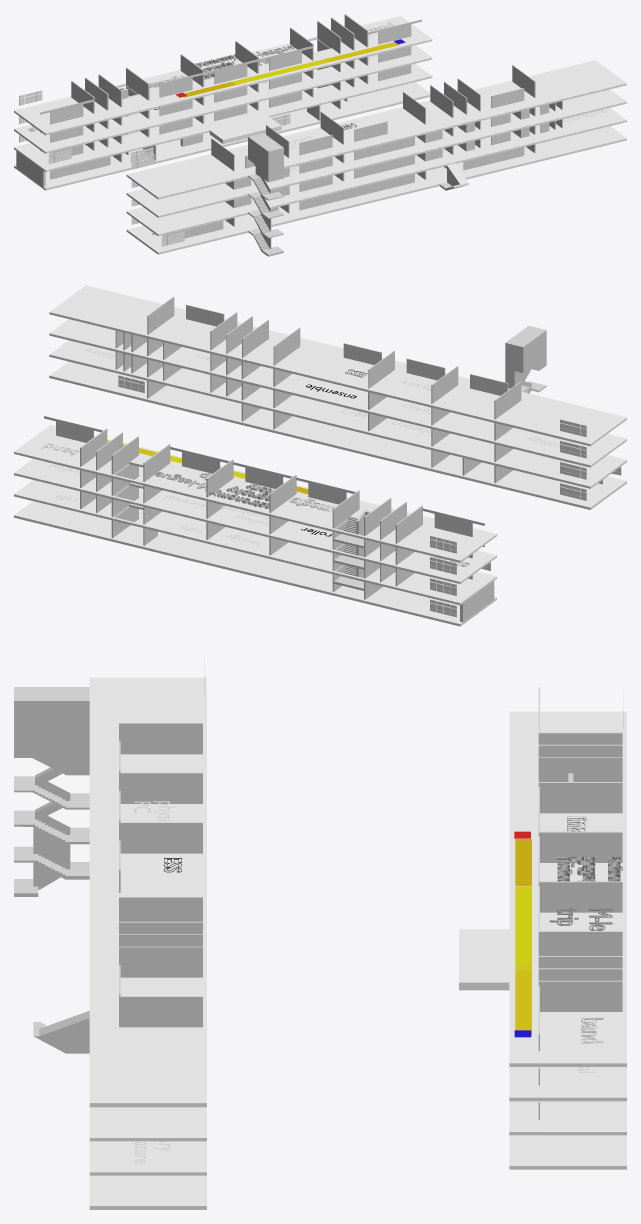
The model's file is frommagictoband.glb.
3 renders of one model, top to bottom at view 1: azimuth 30°, elevation 25°; view 2: azimuth 150°, elevation 25°; view 3: azimuth 270°, elevation 25°, orthographic. The views are drawn at different scales.
Visible parts, largest first — view 1: floor S 4F, floor S 3F, floor S 2F, floor 4F, floor S 1F, floor 3F, floor 2F, floor 1F, Str S 4F, wall HomeRoom~HomeRoom.002, ceiling Gate.001, wall 1C~1C (+36 smaller); view 2: floor S 4F, floor S 1F, floor S 2F, floor S 3F, floor 4F, floor 1F, floor 2F, floor 3F, Str S 4F, 天文 地歴, wall Civics~Civics, wall 1D~1D (+27 smaller); view 3: floor S 4F, floor 4F, Str S 4F, floor 1F, floor S 3F, floor S 1F, floor 2F, floor 3F, floor S 2F, ceiling Gate.001, Str S 1F, wall 1A~Out.001 (+24 smaller).
Part boxes in pixels (x1=…): floor S 4F: x1=126, y1=60, x2=626, y2=199; floor S 3F: x1=126, y1=89, x2=626, y2=217; floor S 2F: x1=126, y1=108, x2=626, y2=236; floor 4F: x1=14, y1=16, x2=432, y2=135; floor S 1F: x1=126, y1=126, x2=626, y2=254; floor 3F: x1=14, y1=45, x2=432, y2=153; floor 2F: x1=14, y1=63, x2=432, y2=172; floor 1F: x1=14, y1=82, x2=430, y2=190; Str S 4F: x1=248, y1=133, x2=283, y2=200; wall HomeRoom~HomeRoom.002: x1=299, y1=174, x2=414, y2=210; ceiling Gate.001: x1=209, y1=116, x2=281, y2=143; wall 1C~1C: x1=204, y1=59, x2=257, y2=84; floor S 4F: x1=49, y1=285, x2=626, y2=446; floor S 1F: x1=49, y1=361, x2=626, y2=509; floor S 2F: x1=49, y1=340, x2=626, y2=488; floor S 3F: x1=49, y1=319, x2=626, y2=467; floor 4F: x1=14, y1=425, x2=496, y2=562; floor 1F: x1=14, y1=501, x2=496, y2=626; floor 2F: x1=14, y1=480, x2=496, y2=605; floor 3F: x1=14, y1=459, x2=496, y2=583; Str S 4F: x1=505, y1=326, x2=546, y2=392; 天文 地歴: x1=209, y1=483, x2=274, y2=508; wall Civics~Civics: x1=422, y1=508, x2=484, y2=536; wall 1D~1D: x1=296, y1=477, x2=355, y2=504; floor S 4F: x1=89, y1=677, x2=206, y2=1107; floor 4F: x1=509, y1=711, x2=626, y2=1066; Str S 4F: x1=14, y1=687, x2=89, y2=792; floor 1F: x1=509, y1=1135, x2=626, y2=1169; floor S 3F: x1=89, y1=1107, x2=206, y2=1141; floor S 1F: x1=89, y1=1175, x2=206, y2=1209; floor 2F: x1=509, y1=1101, x2=626, y2=1135; floor 3F: x1=509, y1=1067, x2=626, y2=1101; floor S 2F: x1=89, y1=1141, x2=206, y2=1175; ceiling Gate.001: x1=459, y1=929, x2=509, y2=990; Str S 1F: x1=33, y1=842, x2=89, y2=1053; wall 1A~Out.001: x1=119, y1=996, x2=202, y2=1027.
Bounding box in the file's own units: 90 × 21 × 54.75.
